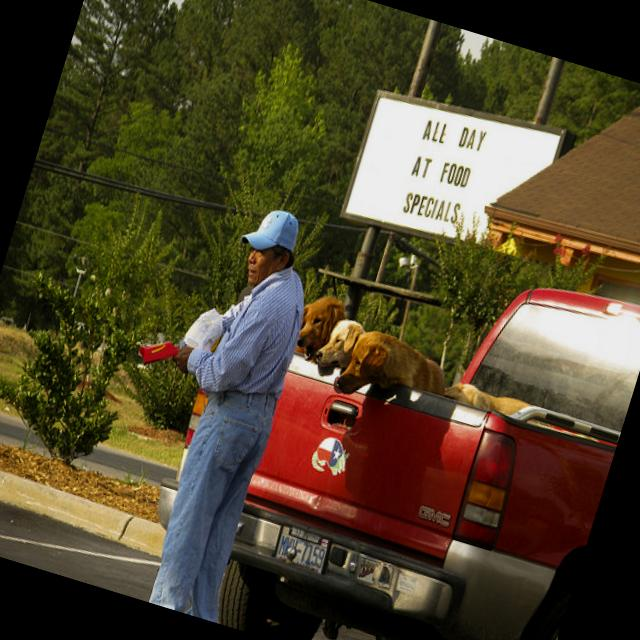Vehicle: (205, 203, 640, 640)
